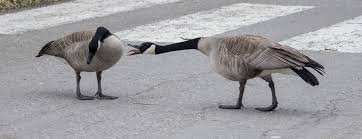goose: (127, 34, 328, 114), (34, 26, 124, 101)
